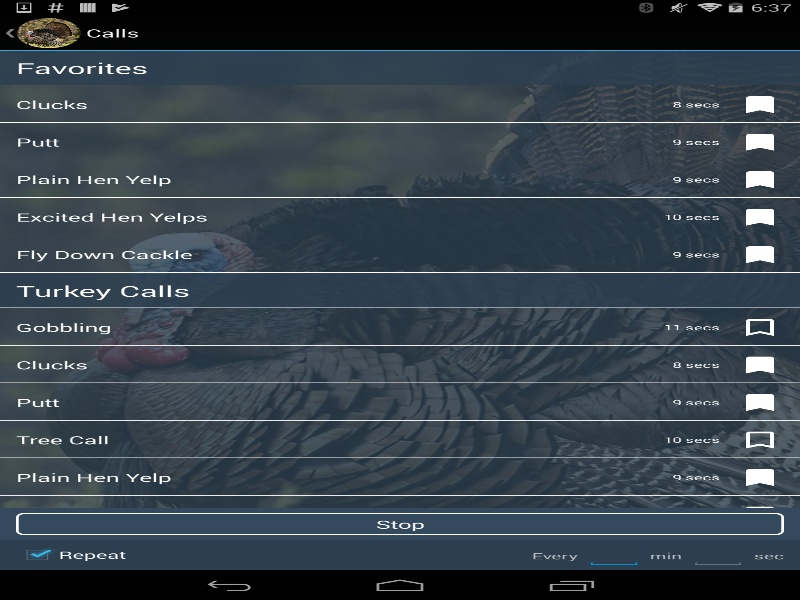Button: (16, 512, 784, 535)
Input: (586, 542, 642, 567), (690, 542, 746, 567)
